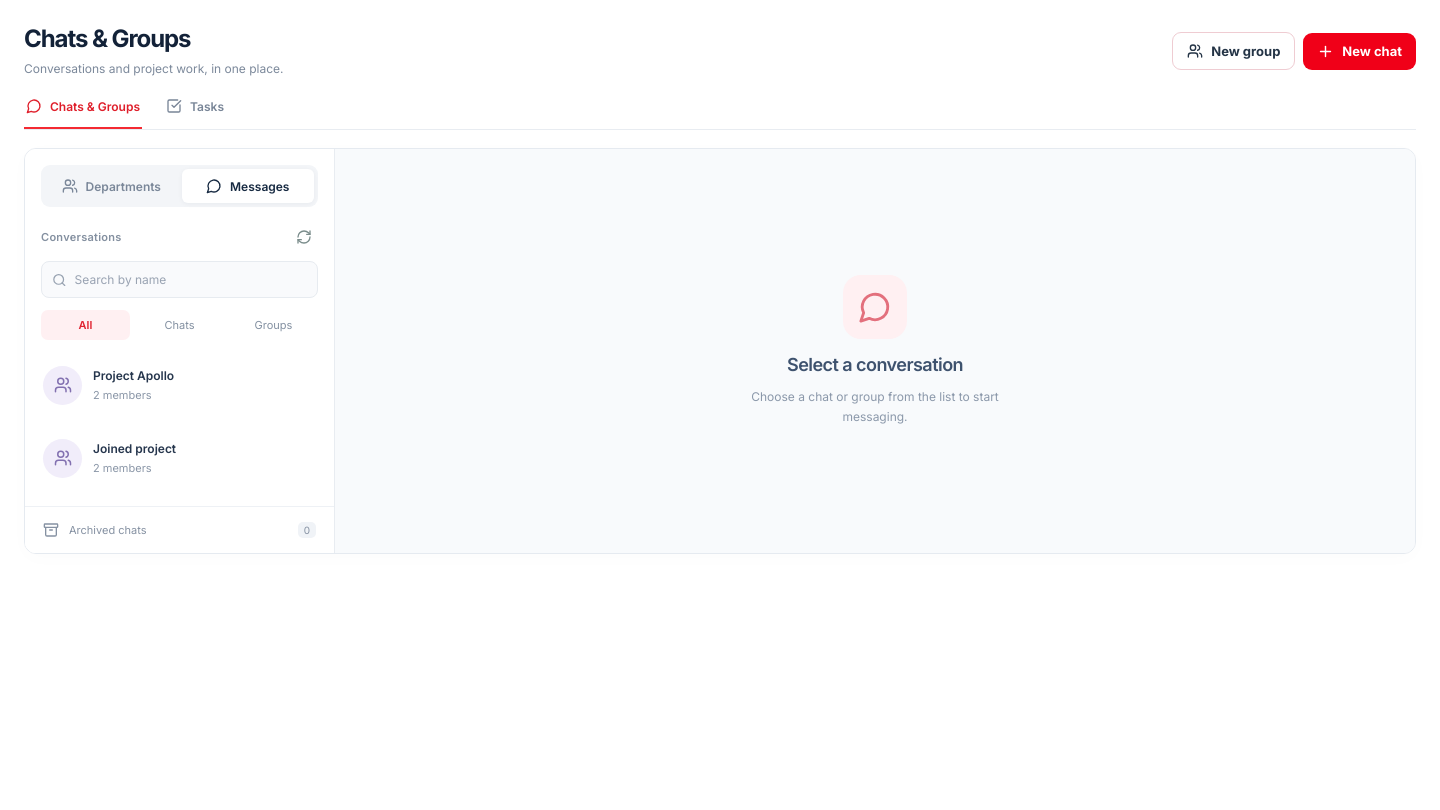
Test: Simple conversation navigation › retains group management and all permitted group actions
Click the button "Project Apollo 2 members" at (62, 385), box [33,350,326,420]
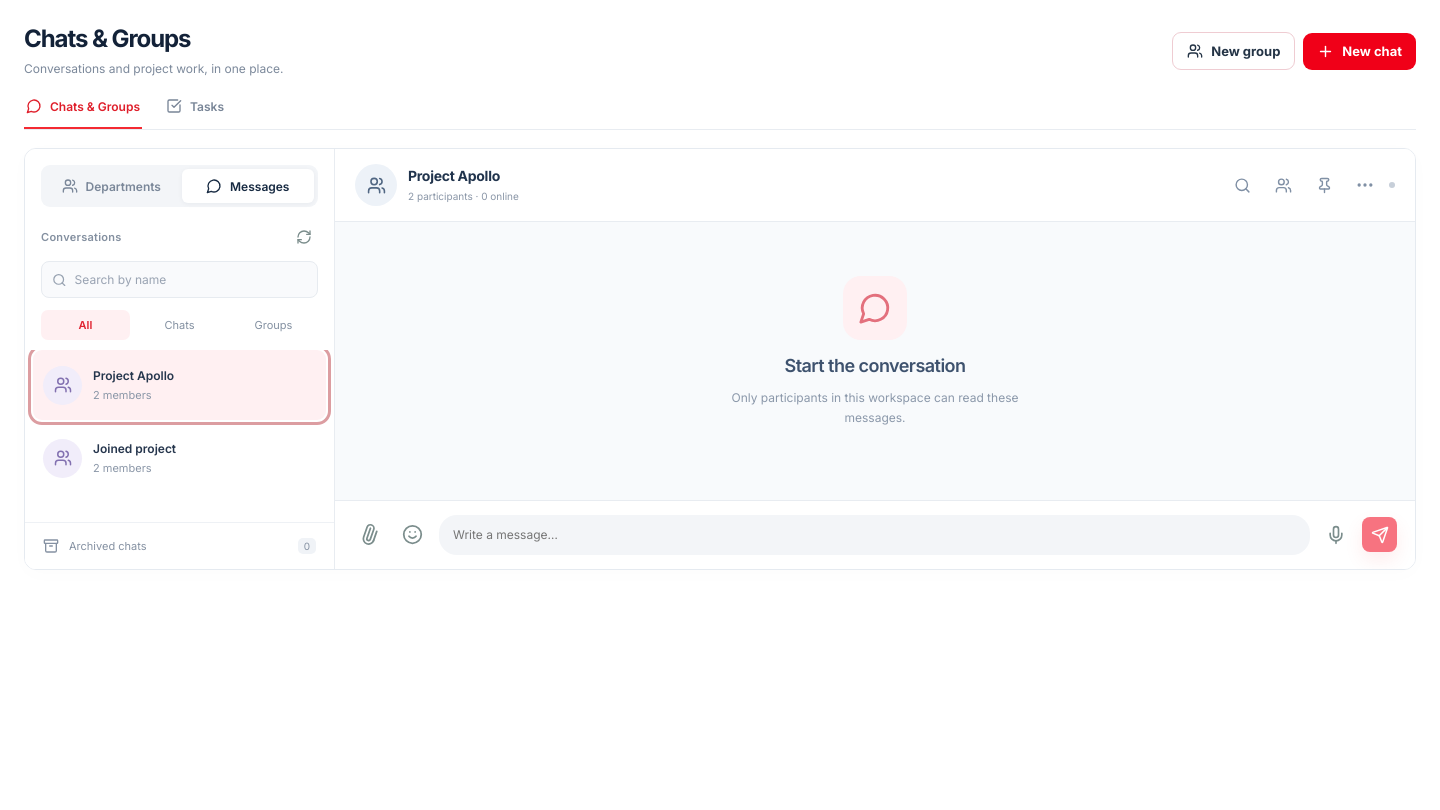
Click the button named "Manage group" at (1283, 185), box [1266,168,1300,202]
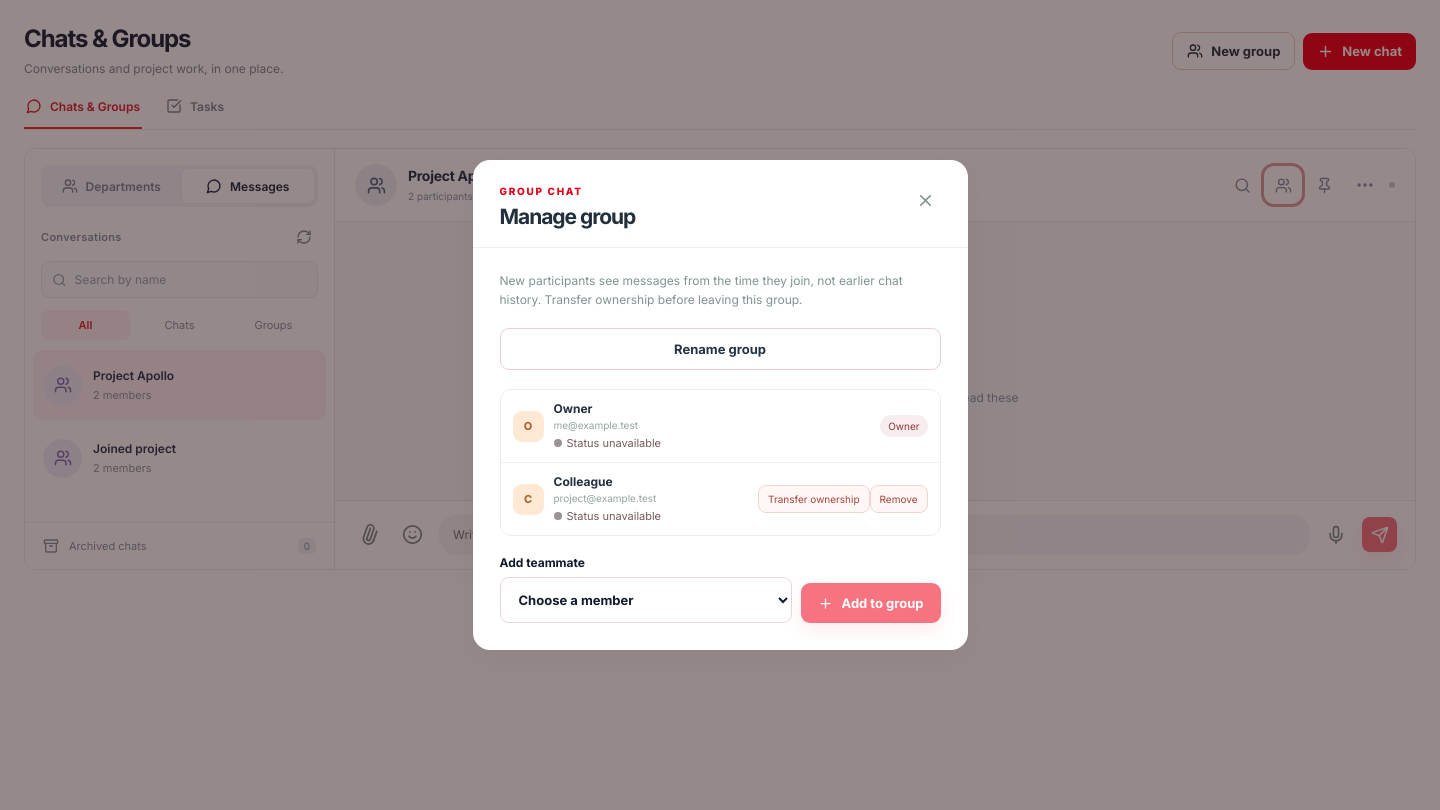
Check: the button "Rename group" is shown, box [500,328,940,370]
Check: the button "Add to group" is shown, box [802,583,940,623]
Click the button named "Close" at (925, 200), box [910,185,940,216]
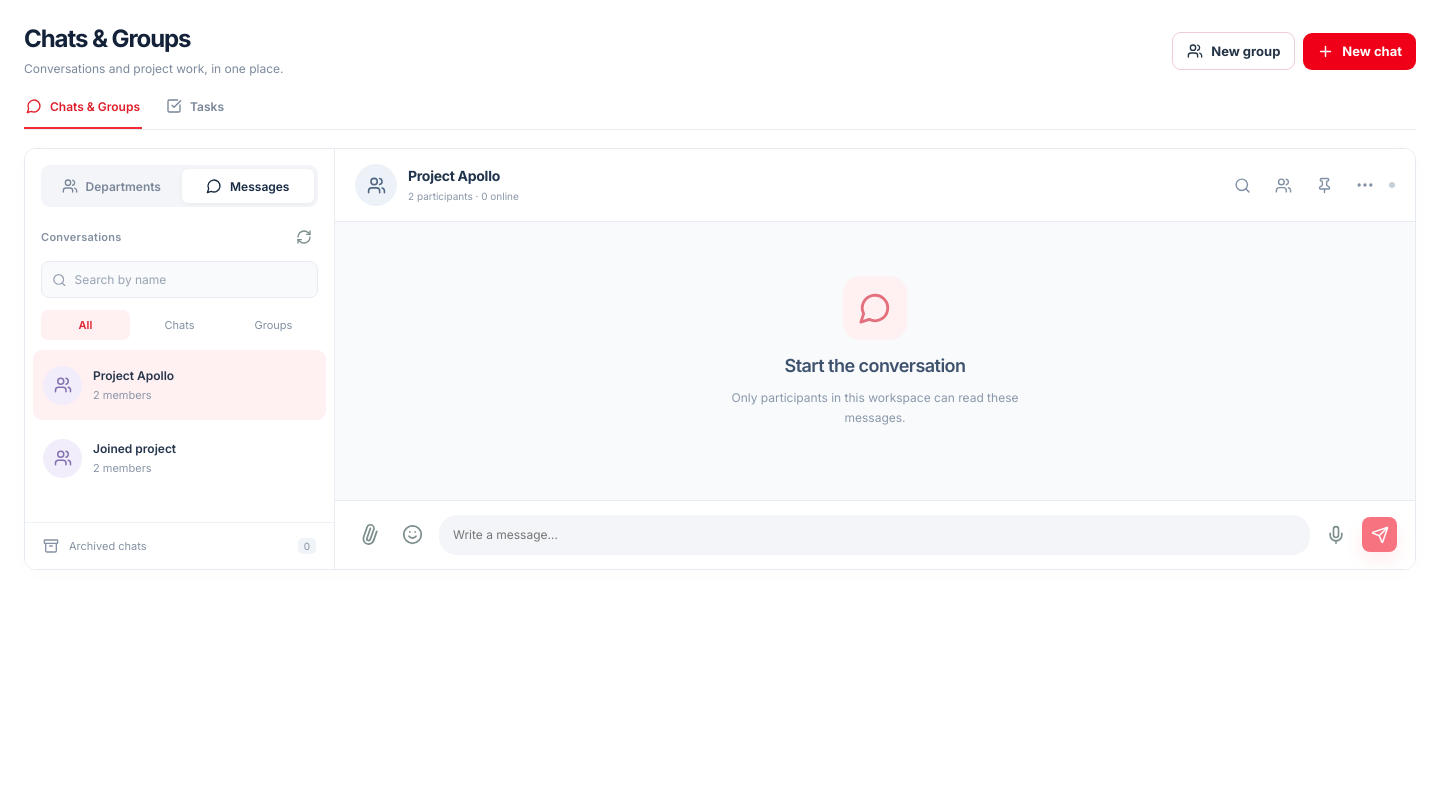
Click the button named "Conversation options" at (1365, 185), box [1348,168,1382,202]
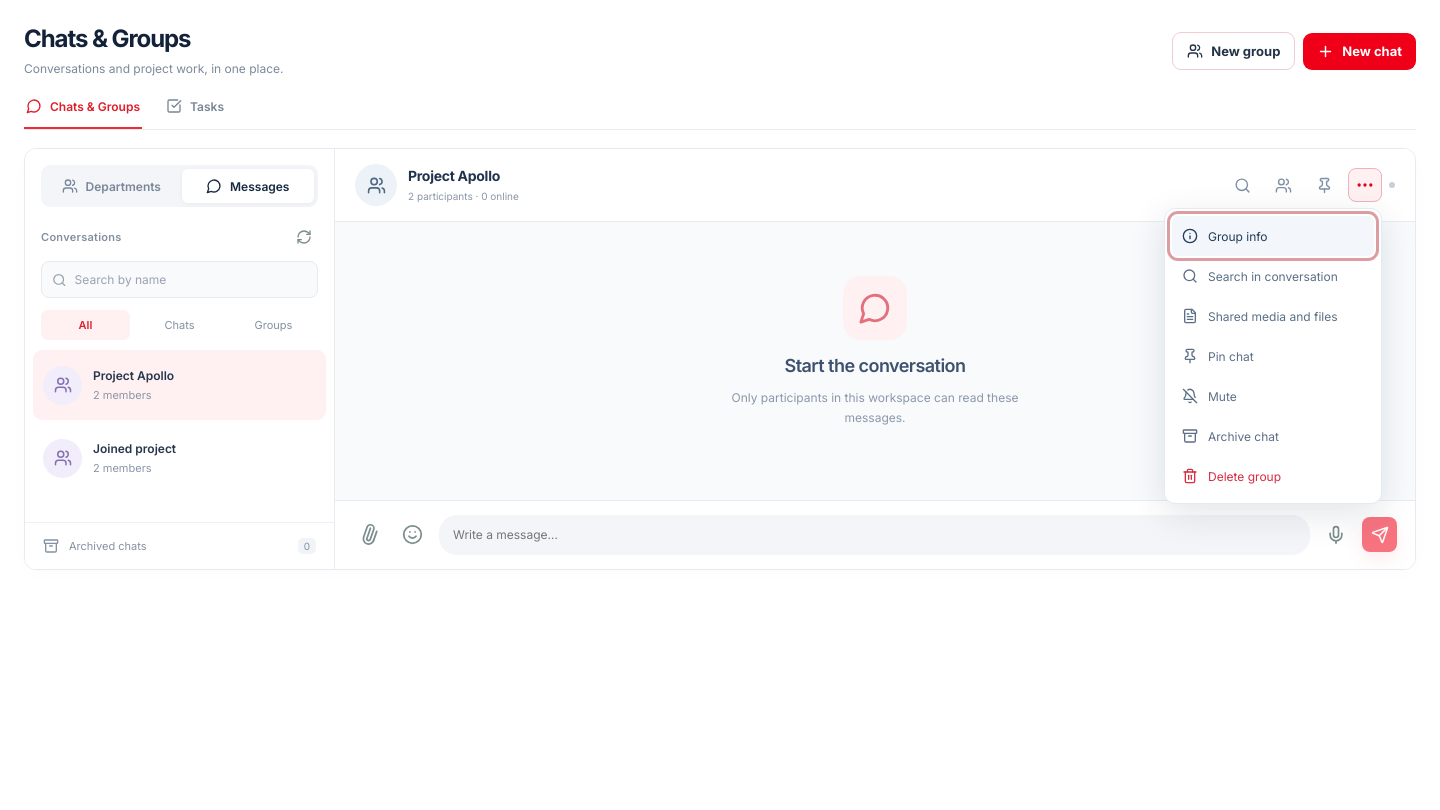
Check: the button "Leave group" is not shown
Check: the button "Delete group" is shown, box [1172,456,1374,496]
Click the button "Joined project 2 members" at (62, 458), box [33,423,326,493]
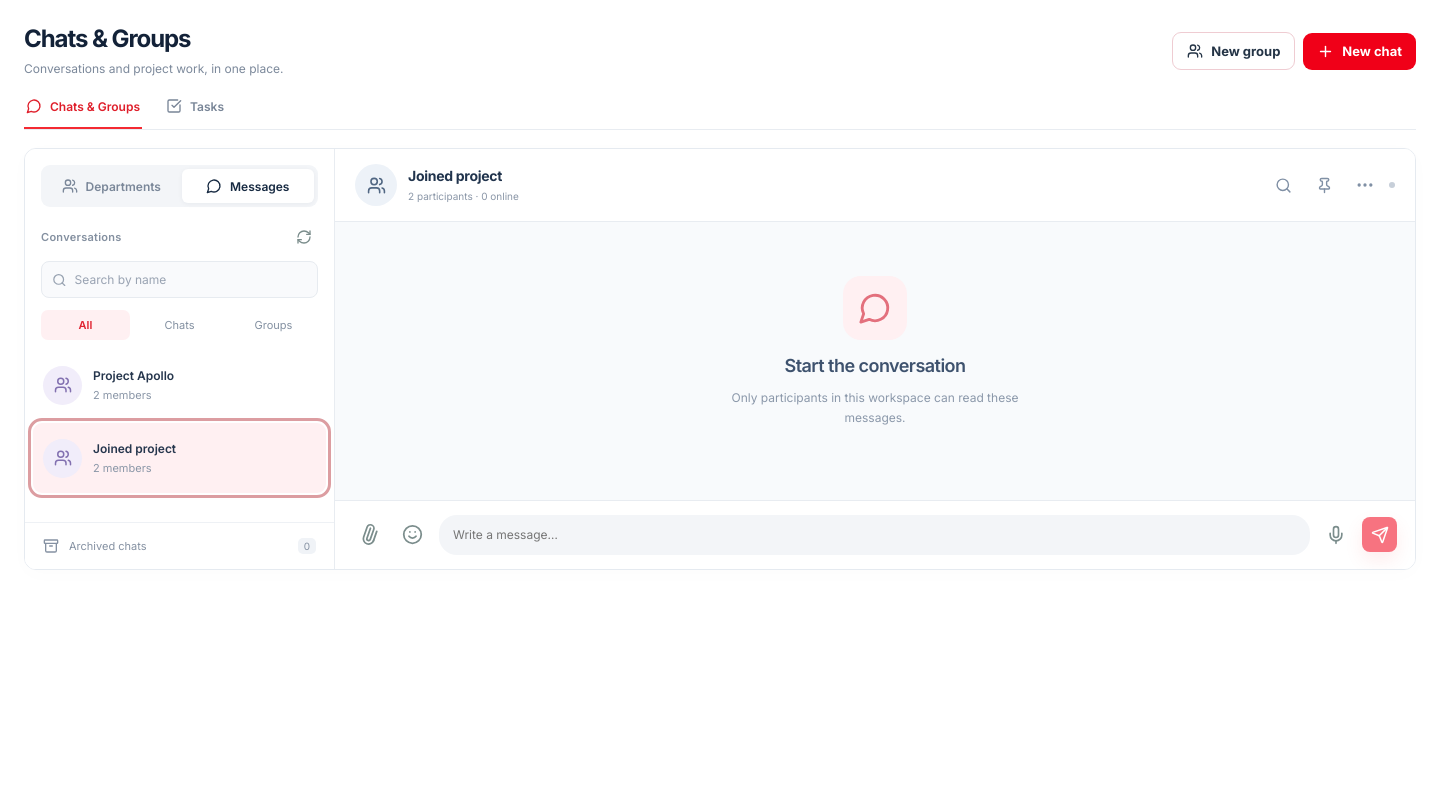
Click the button named "Conversation options" at (1365, 185), box [1348,168,1382,202]
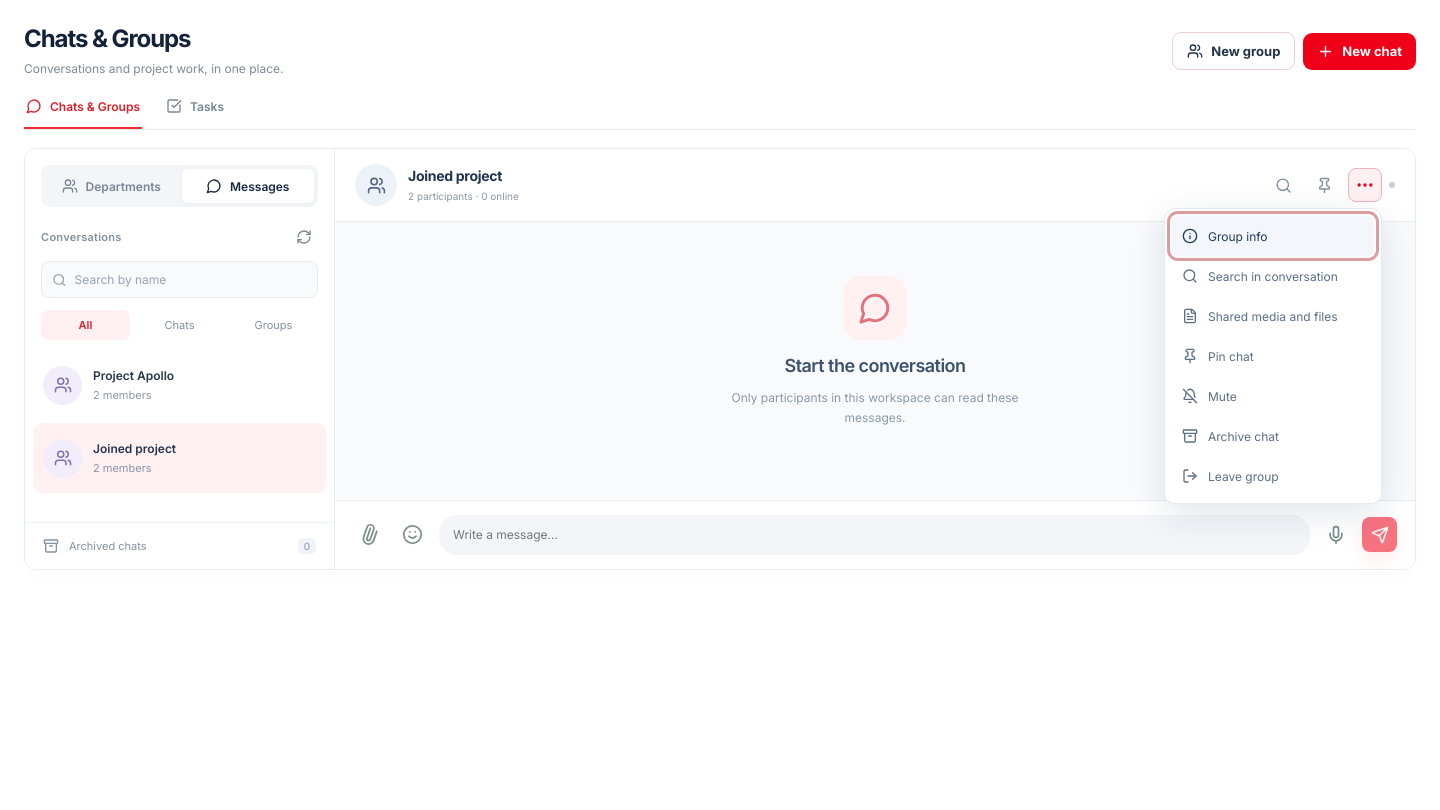
Check: the button "Delete group" is not shown
Check: the button "Leave group" is shown, box [1172,456,1374,496]
